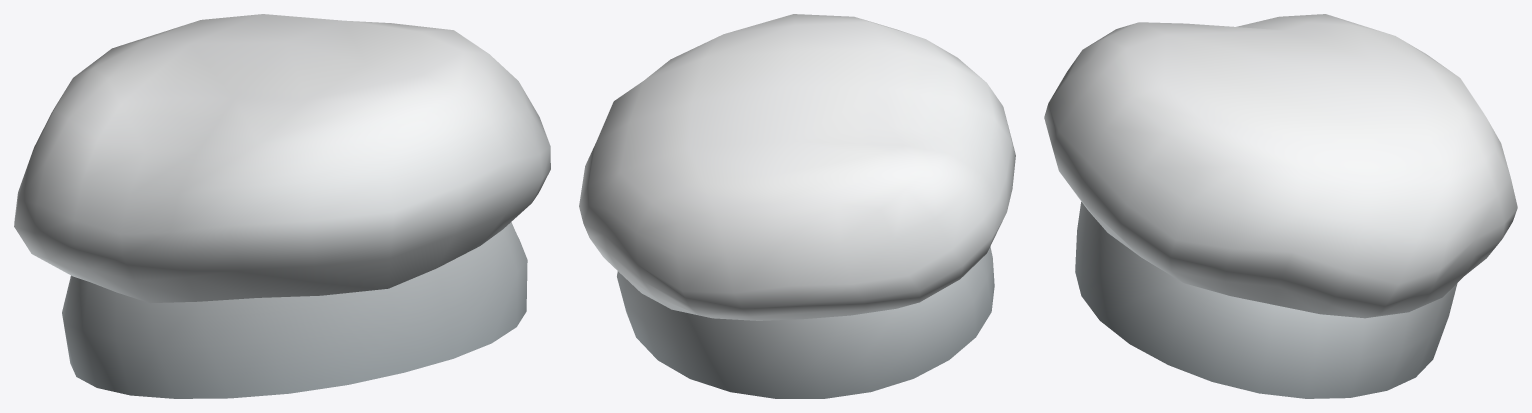
File: Hat_08.glb
3 renders of one model, left to right at view 1: azimuth 30°, elevation 25°; view 2: azimuth 150°, elevation 25°; view 3: azimuth 270°, elevation 25°, orthographic. The views are drawn at different scales.
Visible parts, largest first — view 1: Hat_08; view 2: Hat_08; view 3: Hat_08.
Part boxes in pixels (box(x1,y1,x2,y2)): Hat_08: box(14, 14, 550, 398); Hat_08: box(579, 14, 1015, 398); Hat_08: box(1044, 14, 1517, 398).
Bounding box in the file's own units: 0.7295 × 0.478 × 0.7072.
1 material, 1 textured.
